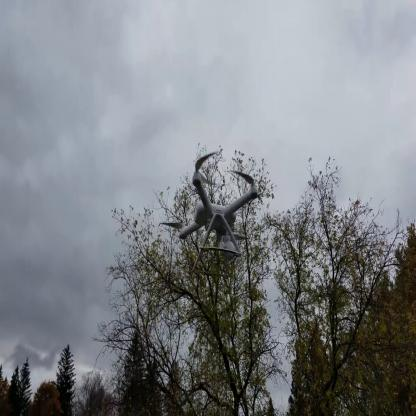drone: (162, 157, 267, 266)
